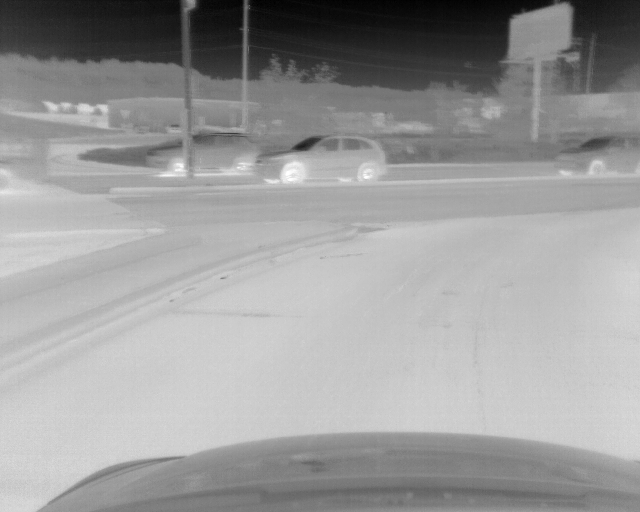car: (258, 134, 388, 185), (146, 132, 262, 174), (554, 136, 640, 178)
